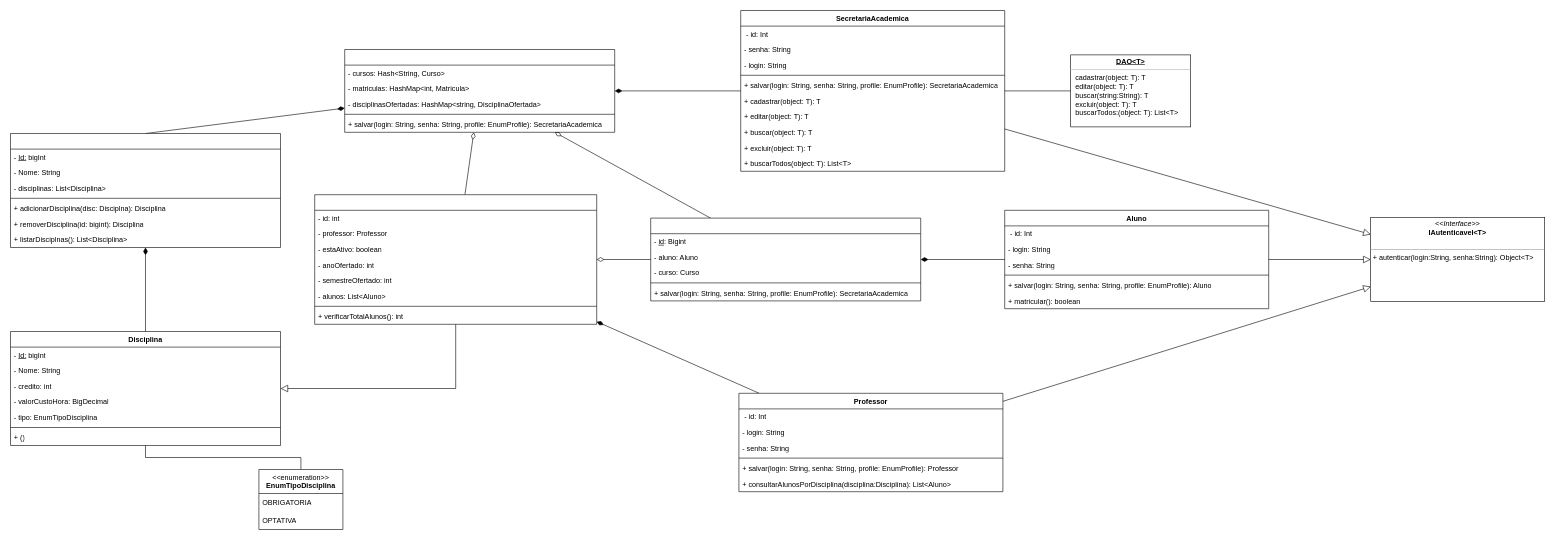
This 1555x540 diagram has some shape labels left out. Each missing label, with the box of its shape:
Curso: (10, 133, 280, 248)
DisciplinaOfertada: (314, 194, 597, 324)
Matricula: (650, 218, 921, 301)
Universidade: (344, 49, 615, 132)
